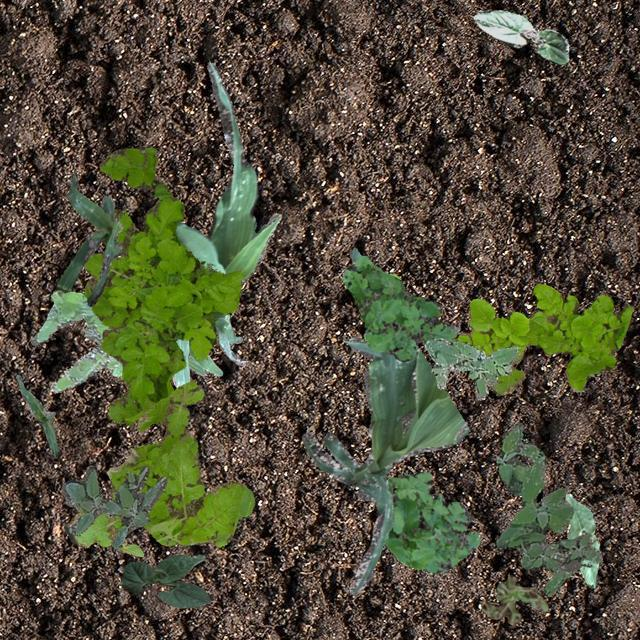crop: (301, 246, 468, 594), (174, 62, 280, 320), (56, 172, 121, 304), (170, 313, 246, 387), (472, 8, 568, 64), (120, 554, 210, 608), (14, 374, 56, 456), (562, 492, 598, 586), (118, 538, 142, 556)
weed: (82, 146, 242, 424), (62, 378, 254, 546), (451, 282, 631, 393), (494, 421, 602, 594), (342, 254, 458, 360), (384, 470, 479, 572), (30, 289, 121, 392), (60, 464, 166, 548), (424, 338, 518, 398), (478, 574, 548, 624), (74, 506, 86, 512)
